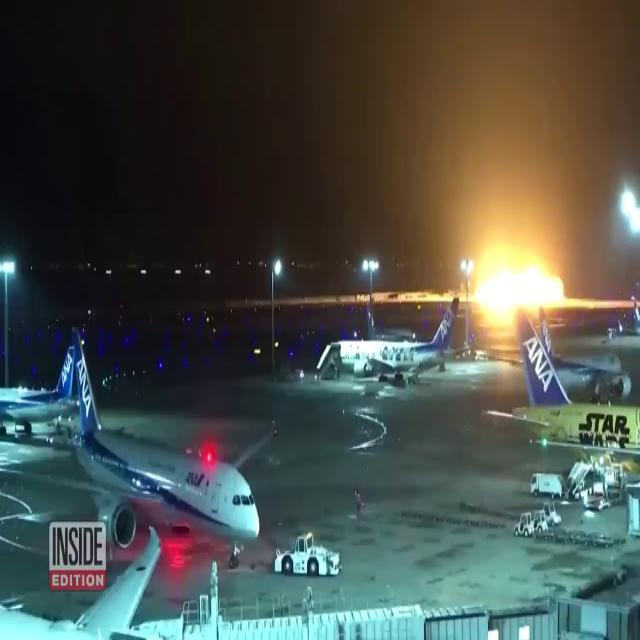Fire: (454, 233, 574, 332)
Smoke: (318, 0, 640, 238)
